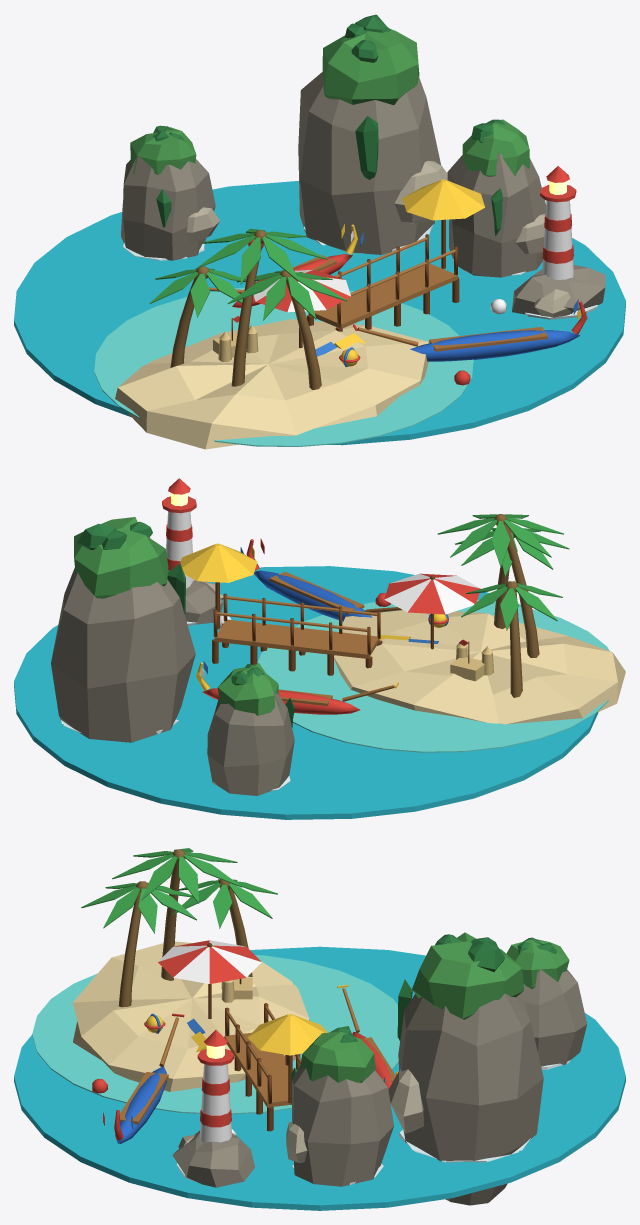
Rendered from loc_phuket.glb.
The picture shows the model from 3 angles, top to bottom: view 1: azimuth 30°, elevation 25°; view 2: azimuth 150°, elevation 25°; view 3: azimuth 270°, elevation 25°; orthographic projection. The views are drawn at different scales.
Parts seen in each view (by area): view 1: Body_Sea, Body_Rock, Body_Sand, Body_Shallow, Body_Moss, Body_Palm, Body_Wood, Body_Moss2, Body_RockLight, Body_Red, Body_Trunk, Body_Yellow (+5 smaller); view 2: Body_Sea, Body_Rock, Body_Sand, Body_Shallow, Body_Moss, Body_Wood, Body_Palm, Body_Red, Body_Trunk, Body_White, Body_Yellow, Body_DarkWood (+3 smaller); view 3: Body_Sea, Body_Rock, Body_Sand, Body_Shallow, Body_Moss, Body_Palm, Body_Red, Body_Wood, Body_White, Body_Trunk, Body_Yellow, Body_RockLight (+5 smaller).
Part boxes in pixels (x1=…): Body_Sea: x1=14, y1=181, x2=625, y2=445; Body_Rock: x1=121, y1=71, x2=605, y2=314; Body_Sand: x1=115, y1=319, x2=428, y2=449; Body_Shallow: x1=94, y1=287, x2=473, y2=446; Body_Moss: x1=130, y1=29, x2=529, y2=176; Body_Palm: x1=149, y1=228, x2=346, y2=320; Body_Wood: x1=209, y1=237, x2=547, y2=351; Body_Moss2: x1=153, y1=14, x2=505, y2=235; Body_RockLight: x1=186, y1=161, x2=571, y2=317; Body_Red: x1=232, y1=166, x2=587, y2=385; Body_Trunk: x1=170, y1=230, x2=321, y2=389; Body_Yellow: x1=334, y1=179, x2=581, y2=366; Body_Sea: x1=14, y1=566, x2=598, y2=819; Body_Rock: x1=51, y1=567, x2=294, y2=795; Body_Sand: x1=334, y1=610, x2=625, y2=724; Body_Shallow: x1=257, y1=600, x2=609, y2=752; Body_Moss: x1=74, y1=517, x2=280, y2=715; Body_Wood: x1=215, y1=571, x2=402, y2=705; Body_Palm: x1=437, y1=514, x2=569, y2=630; Body_Red: x1=162, y1=478, x2=480, y2=714; Body_Trunk: x1=494, y1=514, x2=539, y2=697; Body_White: x1=166, y1=511, x2=479, y2=679; Body_Yellow: x1=180, y1=543, x2=446, y2=690; Body_DarkWood: x1=212, y1=575, x2=469, y2=675; Body_Sea: x1=14, y1=946, x2=625, y2=1210; Body_Rock: x1=172, y1=969, x2=587, y2=1205; Body_Sand: x1=72, y1=941, x2=309, y2=1091; Body_Shallow: x1=32, y1=955, x2=399, y2=1114; Body_Moss: x1=300, y1=932, x2=569, y2=1082; Body_Palm: x1=81, y1=848, x2=277, y2=933; Body_Red: x1=92, y1=940, x2=392, y2=1140; Body_Wood: x1=119, y1=988, x2=395, y2=1124; Body_White: x1=158, y1=940, x2=261, y2=1142; Body_Trunk: x1=118, y1=849, x2=252, y2=1007; Body_Yellow: x1=146, y1=985, x2=398, y2=1075; Body_RockLight: x1=178, y1=1069, x2=423, y2=1162.
Size of the model in its own units: 10 by 4.78 by 10.
